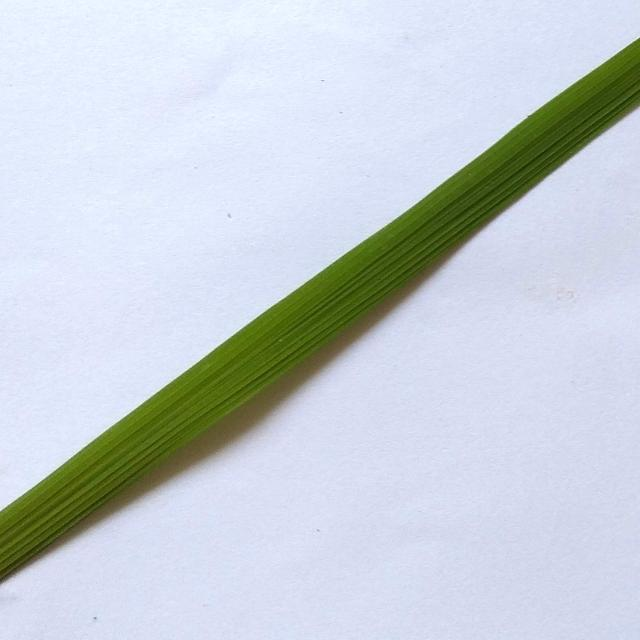Rice_Healthy: (0, 38, 640, 577)
